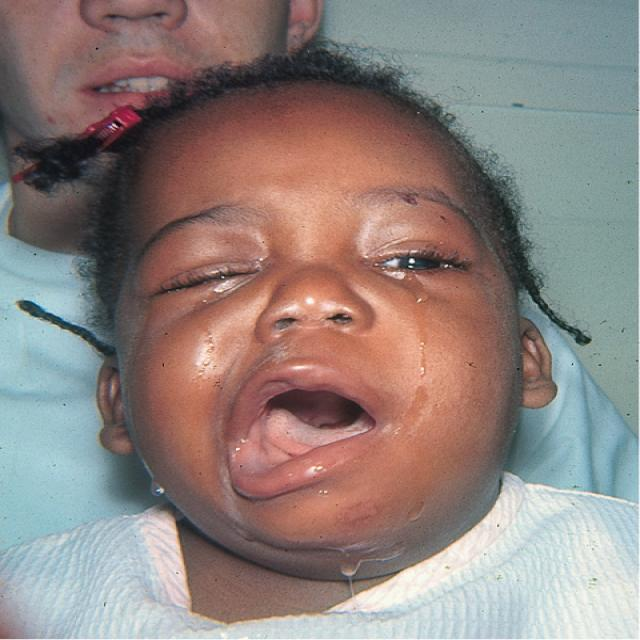stroke_face: (140, 118, 498, 550)
